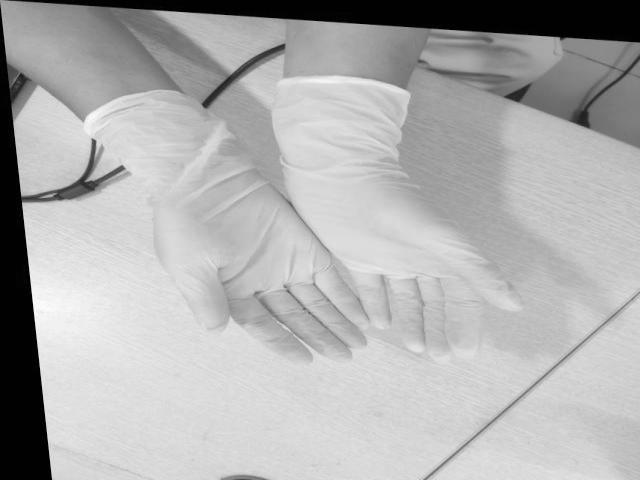gloved: (284, 171, 522, 359), (154, 166, 368, 366)
